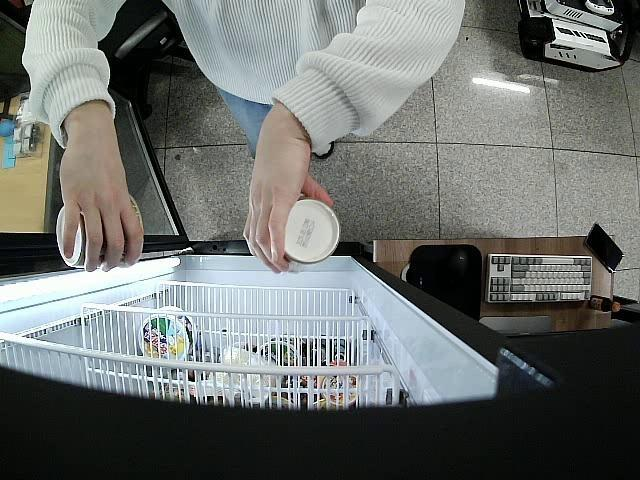04_chapagetti_S: (54, 191, 144, 269), (272, 196, 340, 266)
